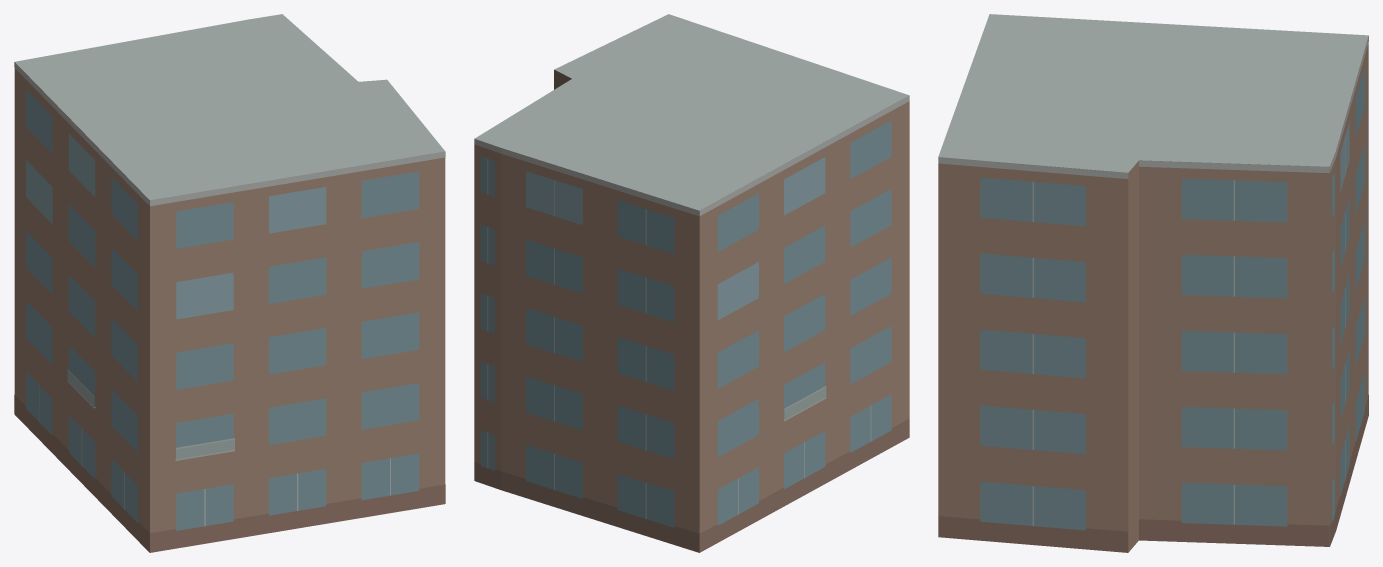
Rendered from survey-upis-33043790.glb.
3 renders of one model, left to right at view 1: azimuth 30°, elevation 25°; view 2: azimuth 150°, elevation 25°; view 3: azimuth 270°, elevation 25°, orthographic. The views are drawn at different scales.
Visible parts, largest first — view 1: survey-upis-33043790.tmp; view 2: survey-upis-33043790.tmp; view 3: survey-upis-33043790.tmp.
Part boxes in pixels (box(x1,y1,x2,y2)): survey-upis-33043790.tmp: box(14, 14, 445, 552); survey-upis-33043790.tmp: box(474, 14, 909, 552); survey-upis-33043790.tmp: box(938, 14, 1368, 552).
Bounding box in the file's own units: 13 × 14.5 × 14.9.
